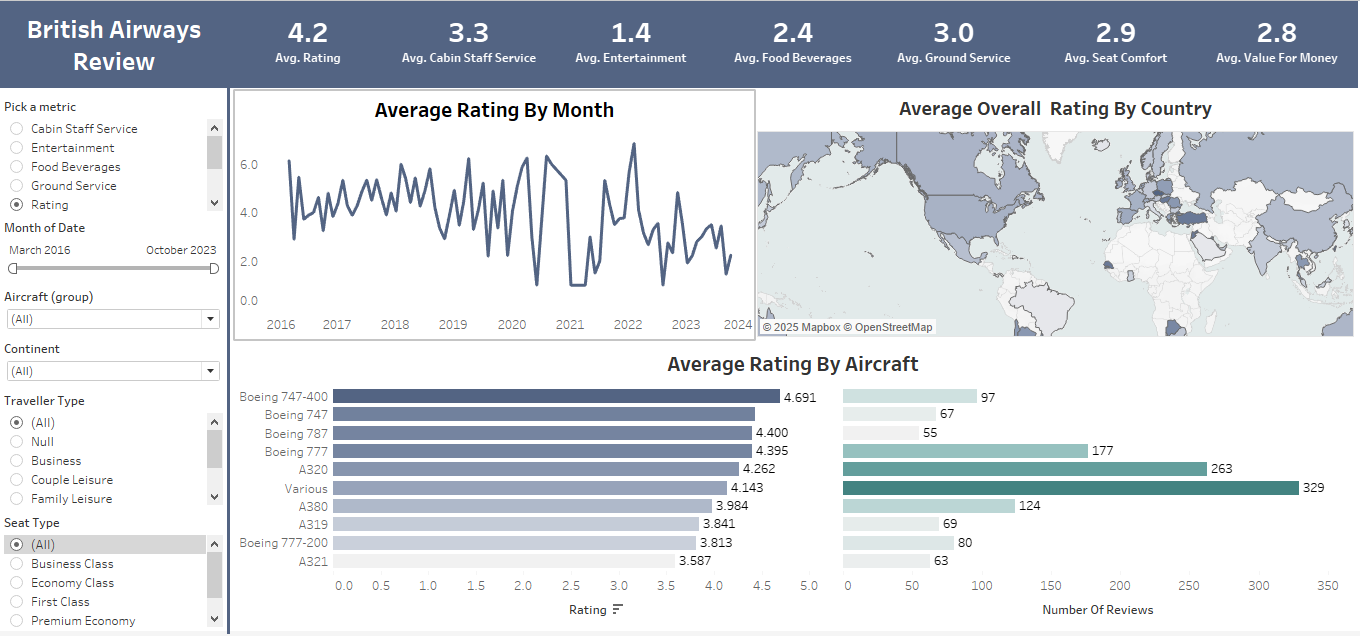

Layout of this report page (visuals, bound fields, positions):
{"tool":"tableau","page":{"name":"Dashboard 1","canvas":[1000,1000],"units":"permille","ordinal":0},"visuals":[{"type":"text","box":[0,0,167.5,138.6]},{"type":"worksheet","title":"Summary","mark":"Automatic","box":[166.7,0,831.7,138.6]},{"type":"worksheet","title":"Map","mark":"Automatic","box":[556.7,141.4,439.2,391.4]},{"type":"worksheet","title":"Month","mark":"Automatic","rows":["Calculation_269090124503416833"],"cols":["date"],"box":[172.5,142.9,381.7,394.3]},{"type":"parameter","param":"[Parameters].[Parameter 1]","box":[0,147.6,166.9,192.6]},{"type":"filter","title":"Map","param":"[federated.1pj9mwk0hjyc3r14um1mc1tldqx5].[tmn:date:qk]","box":[0,340.2,166.9,109.5]},{"type":"filter","title":"Map","param":"[federated.1pj9mwk0hjyc3r14um1mc1tldqx5].[Aircraft (group)]","box":[0,449.7,166.9,82.5]},{"type":"filter","title":"Map","param":"[federated.1pj9mwk0hjyc3r14um1mc1tldqx5].[none:Continent:nk]","box":[0,532.3,166.9,82.5]},{"type":"worksheet","title":"Aircraft","mark":"Automatic","cols":["Calculation_269090124503416833","ba_reviews.csv_6B5B3DFA4D1E43D9B2864FBBF4DBC5B5"],"box":[171.7,545.7,823.3,444.3]},{"type":"filter","title":"Map","param":"[federated.1pj9mwk0hjyc3r14um1mc1tldqx5].[none:traveller_type:nk]","box":[0,614.8,166.9,192.6]},{"type":"filter","title":"Map","param":"[federated.1pj9mwk0hjyc3r14um1mc1tldqx5].[none:seat_type:nk]","box":[0,807.4,166.9,192.6]}]}

Visuals, with their boxes on the dashboard's canvas, which has no fixed pixel size, in thousandths of its width and height (x1, y1, x2, y2). These are canvas units, not pixel positions in the 1360x636 screenshot, which may show the page scaled, cropped or inside an application window:
text: bbox(0, 0, 168, 139)
"Summary" worksheet: bbox(167, 0, 998, 139)
"Map" worksheet: bbox(557, 141, 996, 533)
"Month" worksheet: bbox(172, 143, 554, 537)
parameter: bbox(0, 148, 167, 340)
"Map" filter: bbox(0, 340, 167, 450)
"Map" filter: bbox(0, 450, 167, 532)
"Map" filter: bbox(0, 532, 167, 615)
"Aircraft" worksheet: bbox(172, 546, 995, 990)
"Map" filter: bbox(0, 615, 167, 807)
"Map" filter: bbox(0, 807, 167, 1000)
